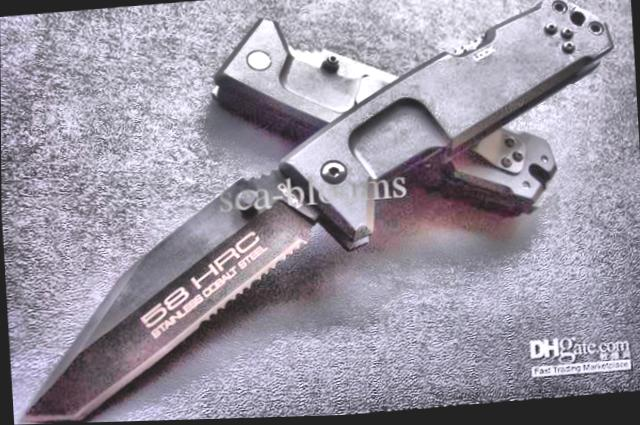knife: (1, 156, 365, 425)
